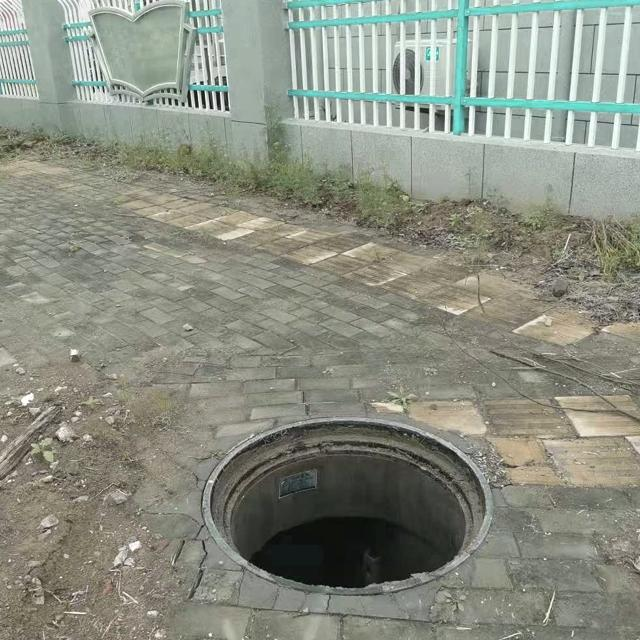lose: (202, 415, 493, 595)
